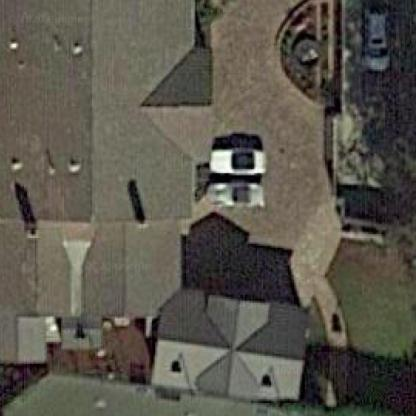car: (206, 136, 275, 178), (359, 10, 396, 79), (203, 180, 274, 213)
